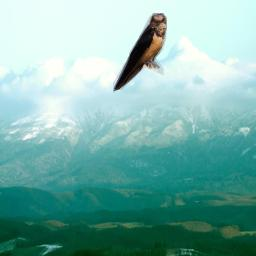Swallow: (113, 13, 167, 93)
